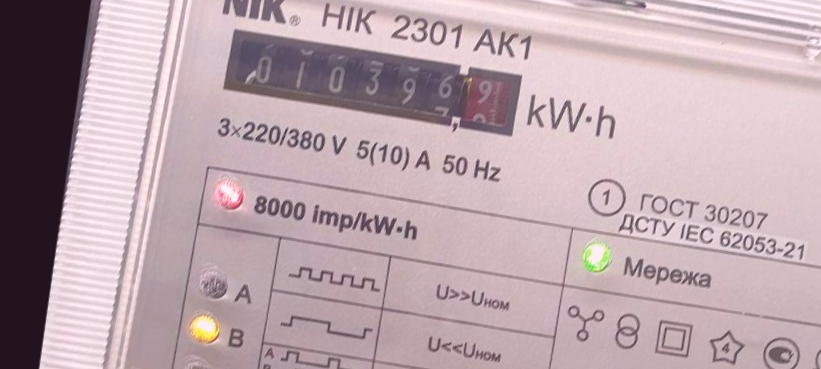0: (322, 61, 348, 96), (249, 50, 274, 86)
1: (290, 56, 307, 91)
3: (361, 64, 383, 99)
6: (432, 70, 457, 102)
9: (394, 73, 418, 108), (469, 76, 494, 109)
screen: (205, 14, 534, 152)
